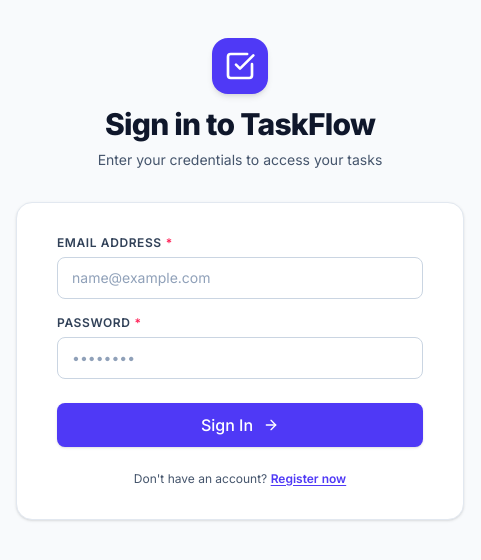
Test: Component Test: LoginPage Form Validation › displays client-side validation errors when submitting empty form
The width and height of the screenshot is (481, 560).
Click the button "Sign In": (240, 424) [57,402,423,446]
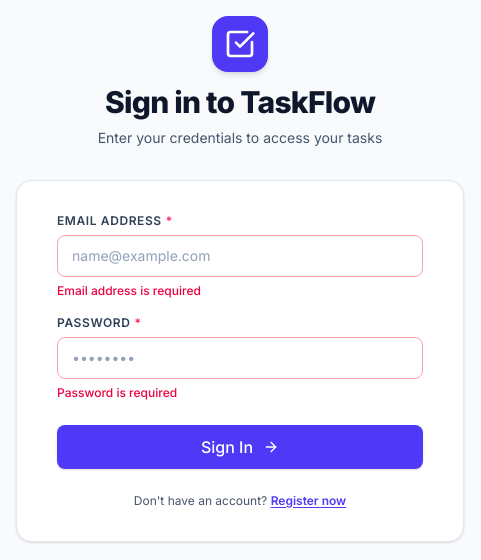
expect the text "Email address is required" is shown: met, box [57,282,201,298]
expect the text "Password is required" is shown: met, box [57,384,177,400]
